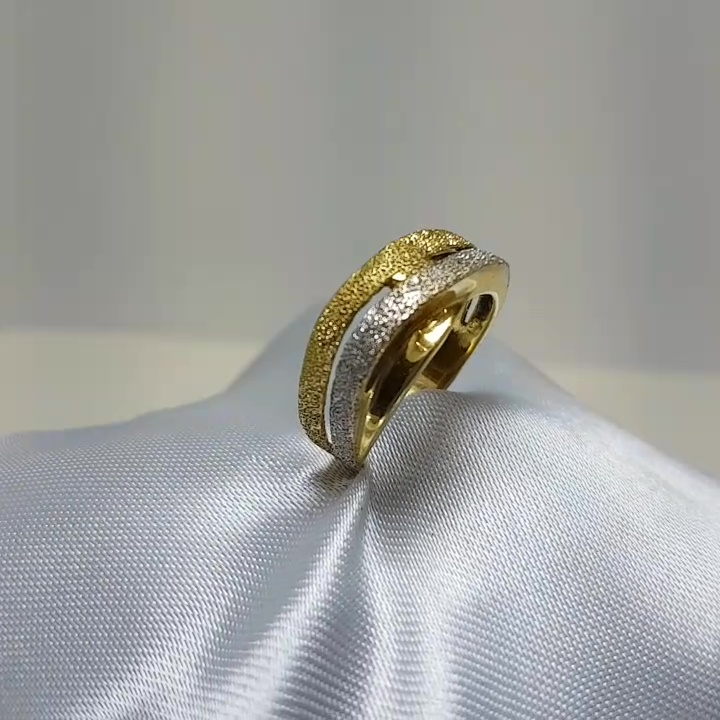Ring 5: (277, 213, 521, 478)
